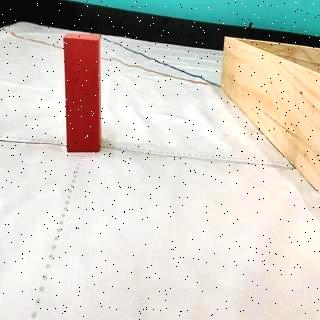redbox: (60, 31, 101, 153)
